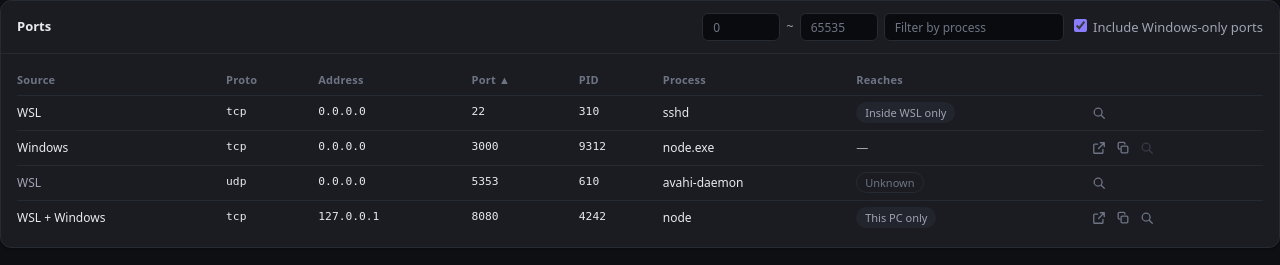
Test case: PortsCard filters › says the filter found nothing rather than claiming there are no ports
This screenshot has width=1280, height=265.
Step 1. Type "zzz" into the search field labelled "Filter by process" → (974, 27), box [884,13,1064,41]
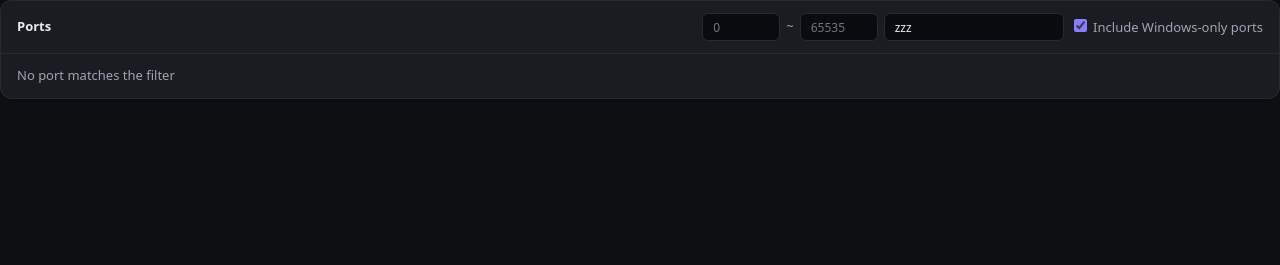
Expected: the text "No port matches the filter" is shown, [17,66,175,84]
